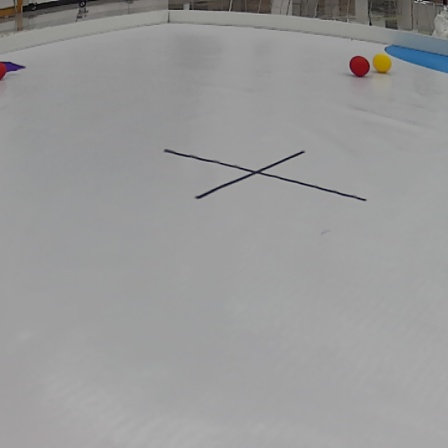blue_base: (382, 41, 448, 75)
red: (347, 51, 374, 81), (0, 59, 12, 81)
yellow: (374, 51, 393, 76)
